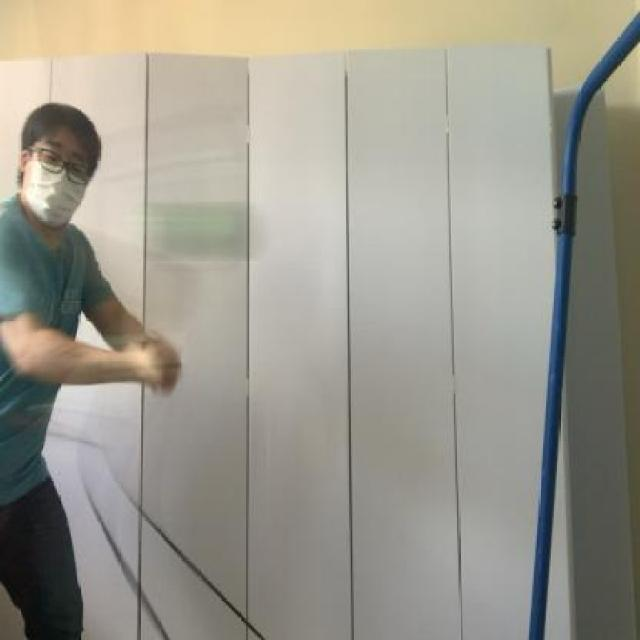baseball: (127, 201, 262, 273)
